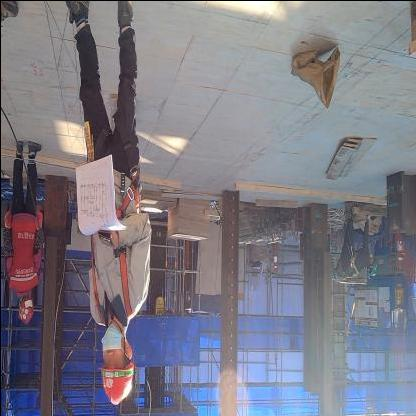Helmet: (93, 361, 141, 399)
safety-shoe: (59, 0, 91, 19), (24, 133, 44, 159)
